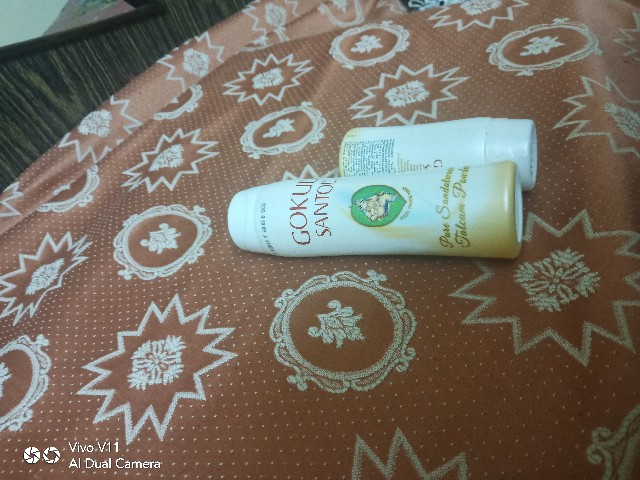gokulsantol big: (219, 167, 537, 278)
gokulsantol small: (312, 110, 569, 175)
